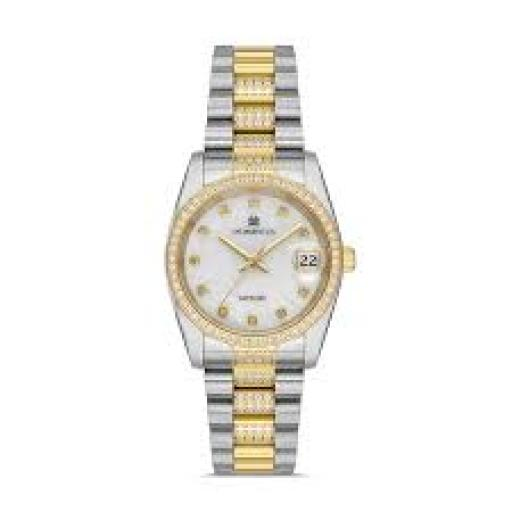KolSaati: (140, 25, 363, 501)
